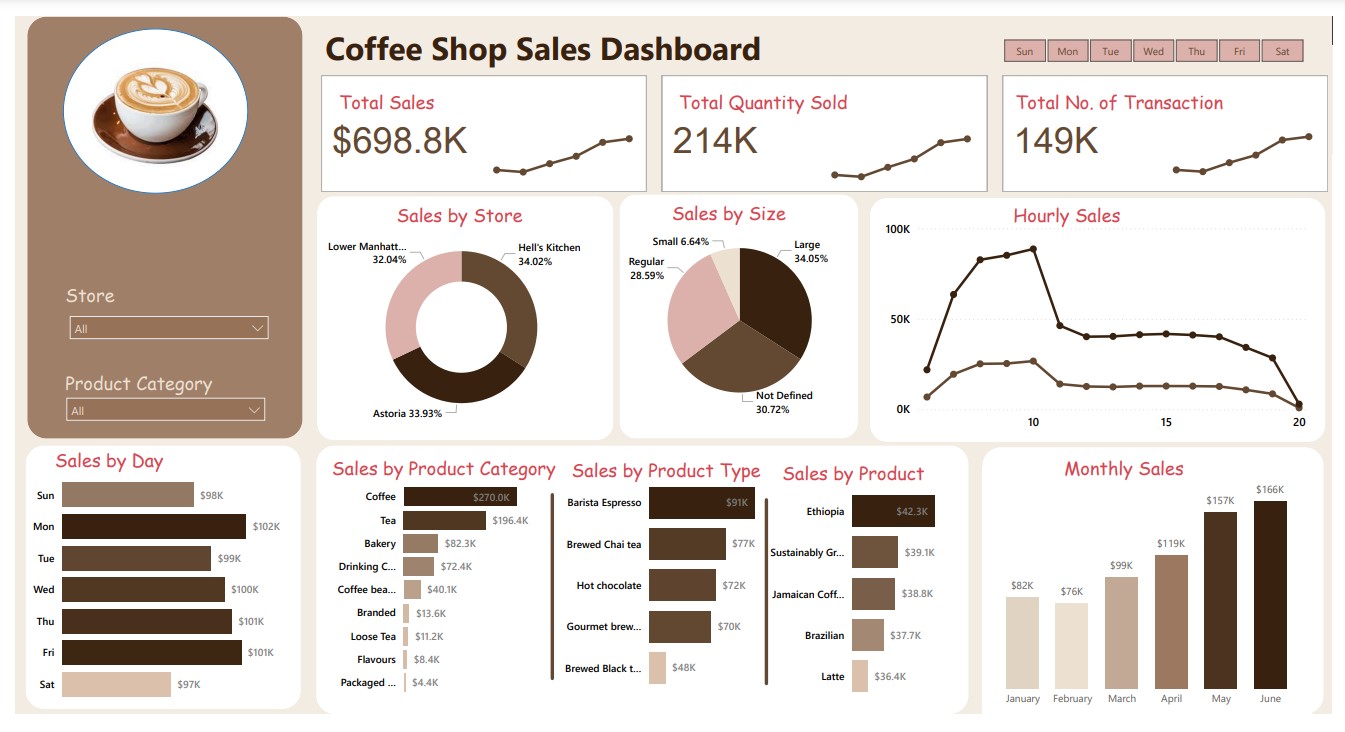

Layout of this report page (visuals, bound fields, positions):
{"tool":"powerbi","page":{"name":"Dashboard","canvas":[1550,820],"ordinal":0},"visuals":[{"type":"cardVisual","fields":{"Data":["Measures (2).Total_Sales","Measures (2).Total_Quantity","Measures (2).Total_Transaction"]},"box":[354.7,64.2,1196.2,147.2],"z":0},{"type":"lineChart","fields":{"Category":["Transactions.Month Name"],"Y":["Measures (2).Total_Sales"]},"box":[549.1,115.1,190.6,84.9],"z":1000},{"type":"lineChart","fields":{"Category":["Transactions.Month Name"],"Y":["Measures (2).Total_Quantity"]},"box":[947.2,115.1,190.6,84.9],"z":2000},{"type":"lineChart","fields":{"Category":["Transactions.Month Name"],"Y":["Measures (2).Total_Transaction"]},"box":[1349.1,117,190.6,84.9],"z":3000},{"type":"shape","box":[1005.7,213.2,535.8,286.8],"z":4000},{"type":"shape","box":[354.7,211.3,349.1,286.8],"z":5000},{"type":"shape","box":[711.3,209.4,281.1,286.8],"z":6000},{"type":"shape","box":[354,504,768,316],"z":7000},{"type":"shape","box":[1138,506,402,314],"z":8000},{"type":"lineChart","title":"Quantity & Sales Per Hour","fields":{"Category":["Transactions.Hour"],"Y":["Measures (2).Total_Quantity","Measures (2).Total_Sales"]},"box":[1018.9,234,507.5,262.3],"z":9000},{"type":"columnChart","fields":{"Category":["Transactions.Month Name"],"Y":["Measures (2).Total_Sales"]},"box":[1138,530,388,290],"z":10000},{"type":"donutChart","fields":{"Category":["Transactions.store_location"],"Y":["Measures (2).Total_Transaction"]},"box":[360,234,330,262],"z":11000},{"type":"barChart","fields":{"Category":["Transactions.product_type"],"Y":["Measures (2).Total_Sales"]},"box":[630,520,254,290],"z":12000},{"type":"pieChart","fields":{"Category":["Transactions.Size"],"Y":["Measures (2).Total_Sales"]},"box":[711.3,222.6,283,267.9],"z":13000},{"type":"shape","box":[14,0,324,496],"z":14000},{"type":"barChart","fields":{"Category":["Transactions.product_detail"],"Y":["Measures (2).Total_Sales"]},"box":[870,530,253,290],"z":15000},{"type":"textbox","box":[360,6,544,76],"z":16000},{"type":"slicer","fields":{"Values":["Transactions.Day_Name"]},"box":[1138,20,402,40],"z":17000},{"type":"barChart","fields":{"Category":["Transactions.product_category"],"Y":["Measures (2).Total_Sales"]},"box":[362,530,276,280],"z":18000},{"type":"slicer","fields":{"Values":["Transactions.product_category"]},"box":[50,438,254,46],"z":19000},{"type":"slicer","fields":{"Values":["Transactions.store_location"]},"box":[54,342,254,48],"z":20000},{"type":"shape","box":[12,504,324,310],"z":21000},{"type":"barChart","fields":{"Category":["Transactions.Day_Name"],"Y":["Measures (2).Total_Sales"]},"box":[14,520,324,300],"z":22000},{"type":"shape","box":[56,14,218,194],"z":23000},{"type":"textbox","box":[376,80,204,58],"z":24000},{"type":"textbox","box":[776,80,220,58],"z":25000},{"type":"textbox","box":[1172,80,272,58],"z":26000},{"type":"textbox","box":[444,212,188,40],"z":27000},{"type":"textbox","box":[768,210,204,46],"z":28000},{"type":"textbox","box":[1170,212,204,44],"z":29000},{"type":"textbox","box":[42,500,204,46],"z":30000},{"type":"textbox","box":[368,510,298,58],"z":31000},{"type":"textbox","box":[650,512,248,58],"z":32000},{"type":"textbox","box":[898,516,200,52],"z":33000},{"type":"textbox","box":[1230,510,204,50],"z":34000},{"type":"textbox","box":[54,306,204,46],"z":35000},{"type":"textbox","box":[54,410,204,40],"z":36000},{"type":"shape","box":[622,560,20,220],"z":37000},{"type":"shape","box":[874,566,20,220],"z":38000},{"type":"image","box":[86,30,158,164],"z":39000}]}

Visuals, with their boxes in screenshot pixels (x1, y1, x2, y2), scaled from the page's 1550x820 canvas onto the 1345x732 screenshot:
cardVisual - Measures (2).Total_Sales x Measures (2).Total_Quantity: (x1=308, y1=57, x2=1344, y2=189)
lineChart - Transactions.Month Name x Measures (2).Total_Sales: (x1=476, y1=103, x2=642, y2=179)
lineChart - Transactions.Month Name x Measures (2).Total_Quantity: (x1=822, y1=103, x2=987, y2=179)
lineChart - Transactions.Month Name x Measures (2).Total_Transaction: (x1=1171, y1=104, x2=1336, y2=180)
shape: (x1=873, y1=190, x2=1338, y2=446)
shape: (x1=308, y1=189, x2=611, y2=445)
shape: (x1=617, y1=187, x2=861, y2=443)
shape: (x1=307, y1=450, x2=974, y2=731)
shape: (x1=987, y1=452, x2=1336, y2=731)
"Quantity & Sales Per Hour" lineChart: (x1=884, y1=209, x2=1325, y2=443)
columnChart - Transactions.Month Name x Measures (2).Total_Sales: (x1=987, y1=473, x2=1324, y2=731)
donutChart - Transactions.store_location x Measures (2).Total_Transaction: (x1=312, y1=209, x2=599, y2=443)
barChart - Transactions.product_type x Measures (2).Total_Sales: (x1=547, y1=464, x2=767, y2=723)
pieChart - Transactions.Size x Measures (2).Total_Sales: (x1=617, y1=199, x2=863, y2=438)
shape: (x1=12, y1=0, x2=293, y2=443)
barChart - Transactions.product_detail x Measures (2).Total_Sales: (x1=755, y1=473, x2=974, y2=731)
textbox: (x1=312, y1=5, x2=784, y2=73)
slicer - Transactions.Day_Name: (x1=987, y1=18, x2=1336, y2=54)
barChart - Transactions.product_category x Measures (2).Total_Sales: (x1=314, y1=473, x2=554, y2=723)
slicer - Transactions.product_category: (x1=43, y1=391, x2=264, y2=432)
slicer - Transactions.store_location: (x1=47, y1=305, x2=267, y2=348)
shape: (x1=10, y1=450, x2=292, y2=727)
barChart - Transactions.Day_Name x Measures (2).Total_Sales: (x1=12, y1=464, x2=293, y2=731)
shape: (x1=49, y1=12, x2=238, y2=186)
textbox: (x1=326, y1=71, x2=503, y2=123)
textbox: (x1=673, y1=71, x2=864, y2=123)
textbox: (x1=1017, y1=71, x2=1253, y2=123)
textbox: (x1=385, y1=189, x2=548, y2=225)
textbox: (x1=666, y1=187, x2=843, y2=229)
textbox: (x1=1015, y1=189, x2=1192, y2=229)
textbox: (x1=36, y1=446, x2=213, y2=487)
textbox: (x1=319, y1=455, x2=578, y2=507)
textbox: (x1=564, y1=457, x2=779, y2=509)
textbox: (x1=779, y1=461, x2=953, y2=507)
textbox: (x1=1067, y1=455, x2=1244, y2=500)
textbox: (x1=47, y1=273, x2=224, y2=314)
textbox: (x1=47, y1=366, x2=224, y2=402)
shape: (x1=540, y1=500, x2=557, y2=696)
shape: (x1=758, y1=505, x2=776, y2=702)
image: (x1=75, y1=27, x2=212, y2=173)
